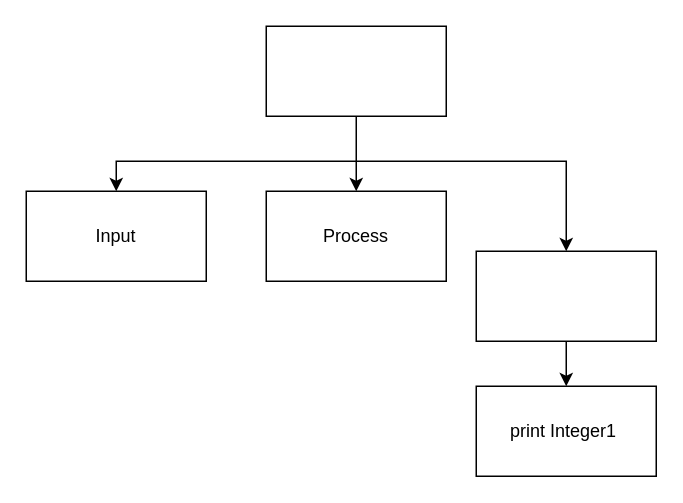
Some shapes in this 683 by 503 pixel diagram are drawn without their labels. Here are the shapes that lost their labels. From the top down, the centre of each, then its label:
pixel 355 70: Less Than 2000
pixel 565 295: Output
